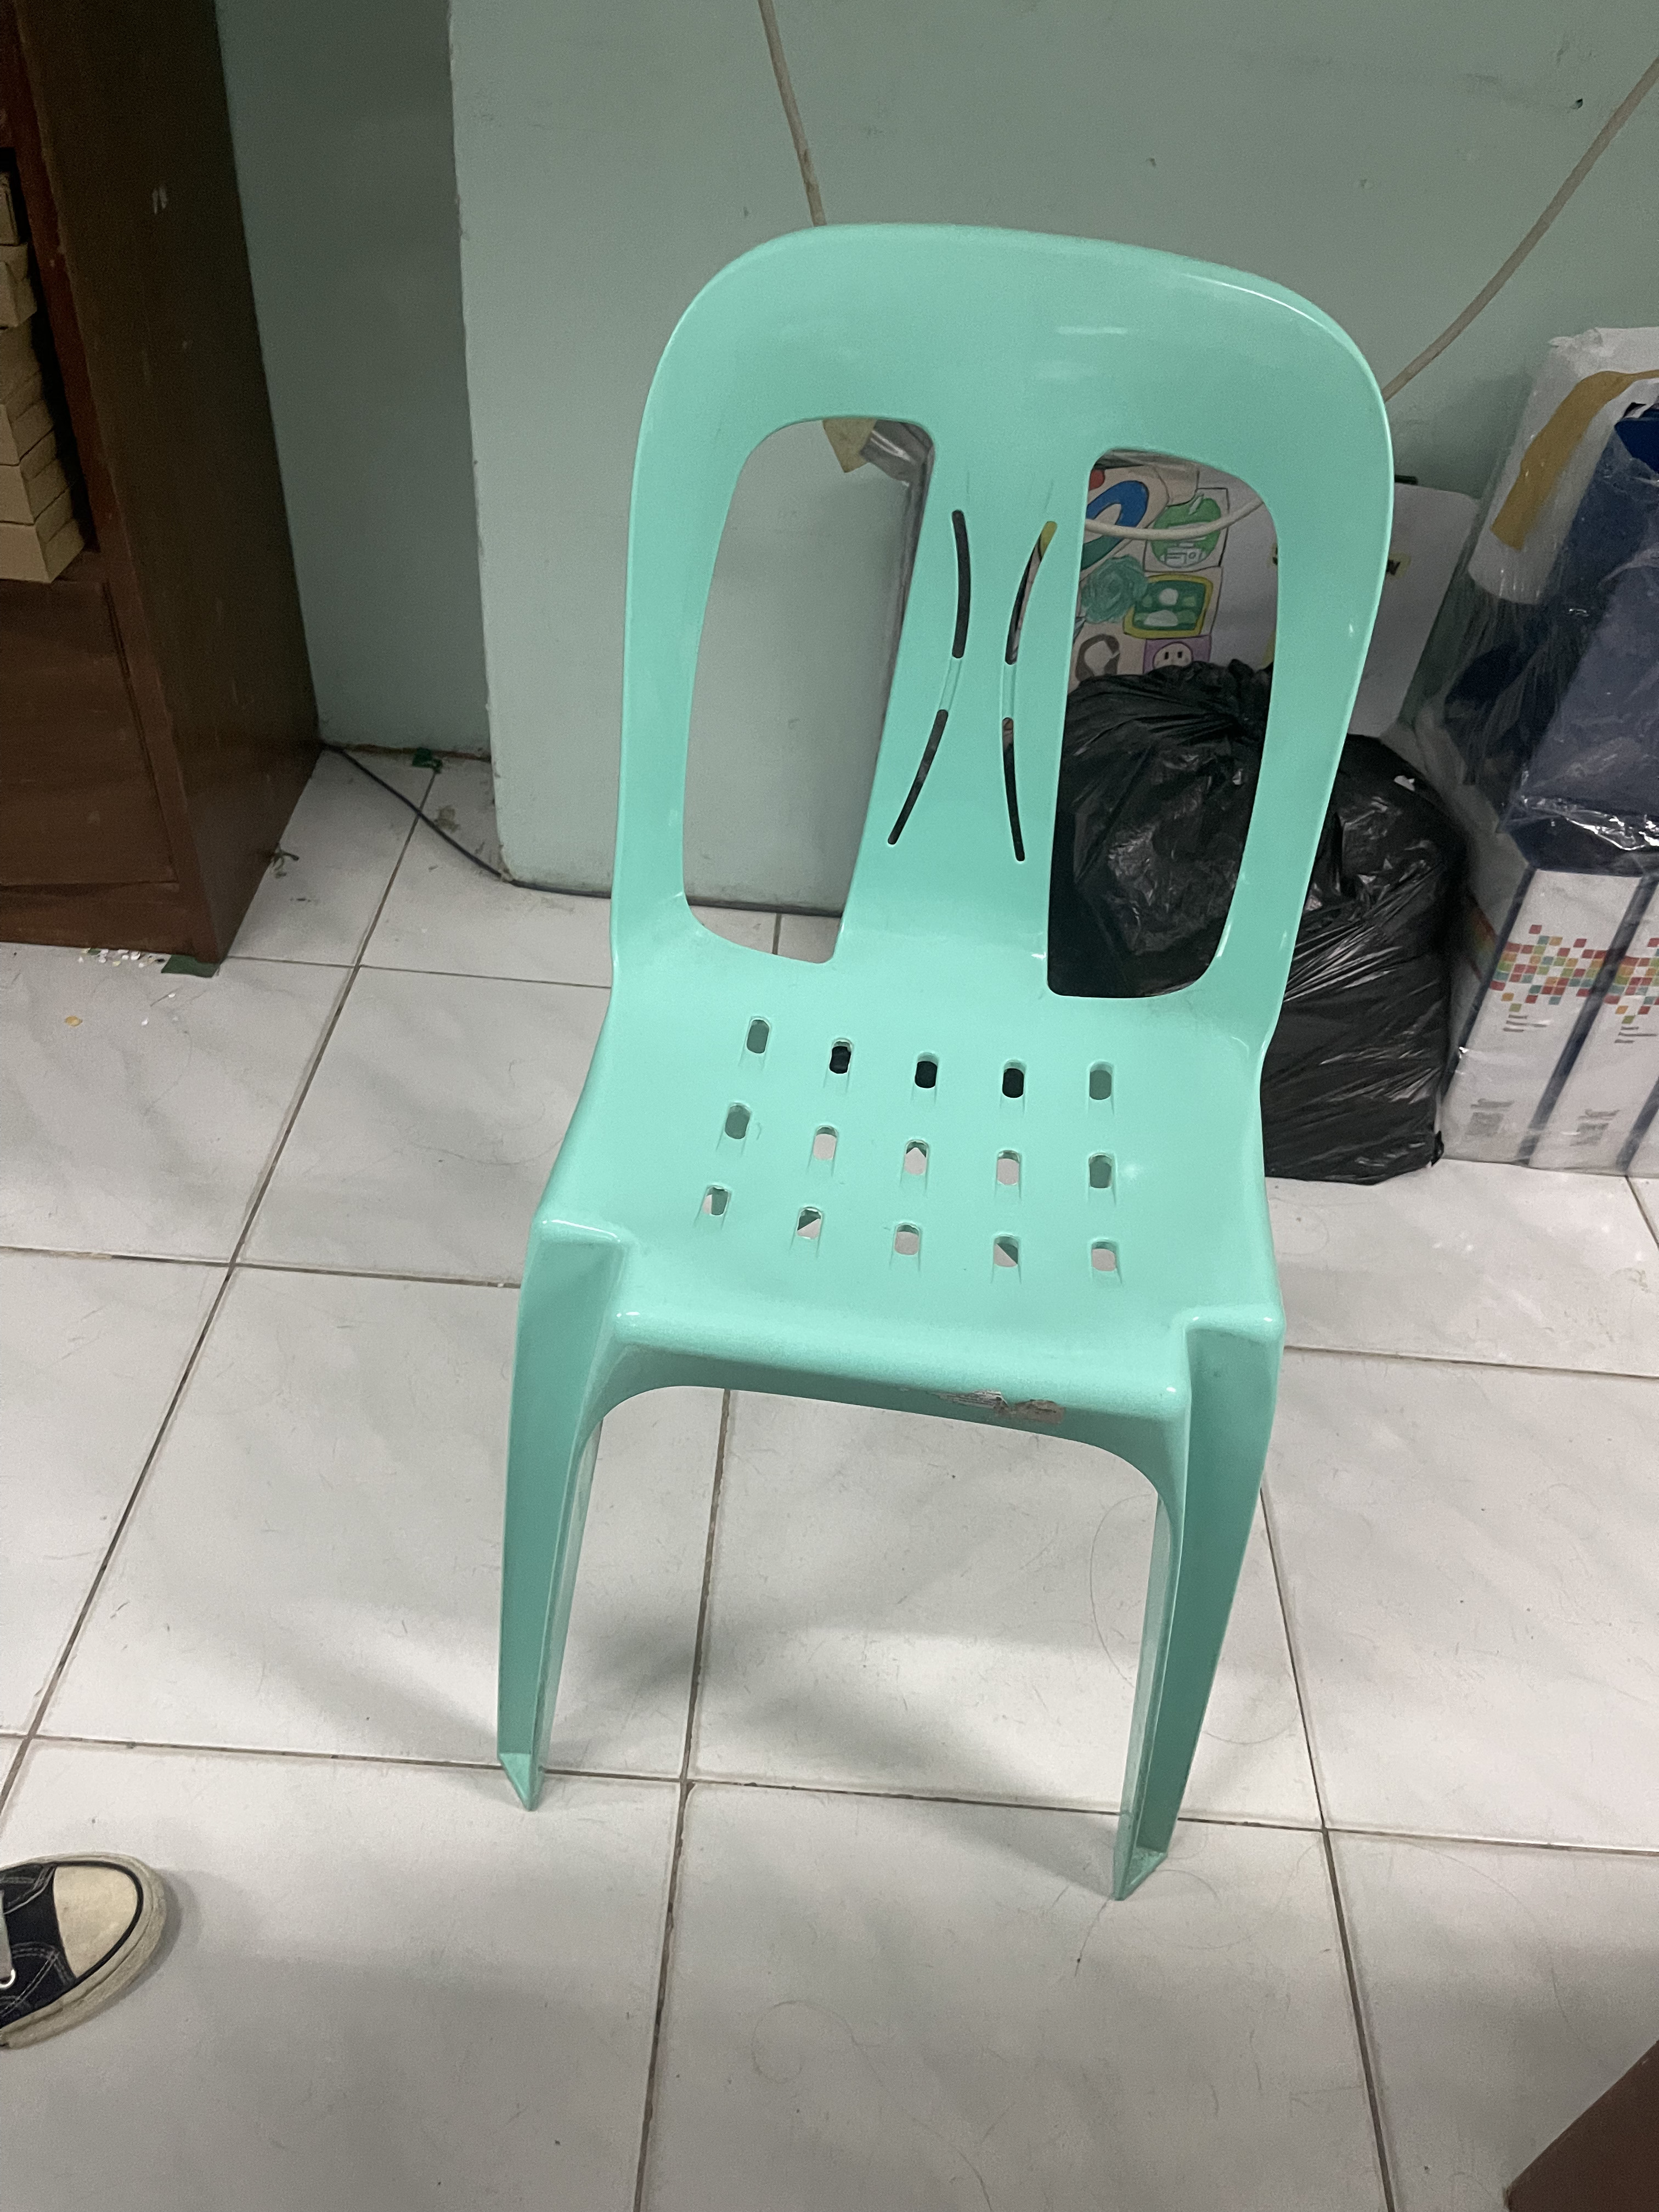chair2: (488, 209, 1405, 1914)
